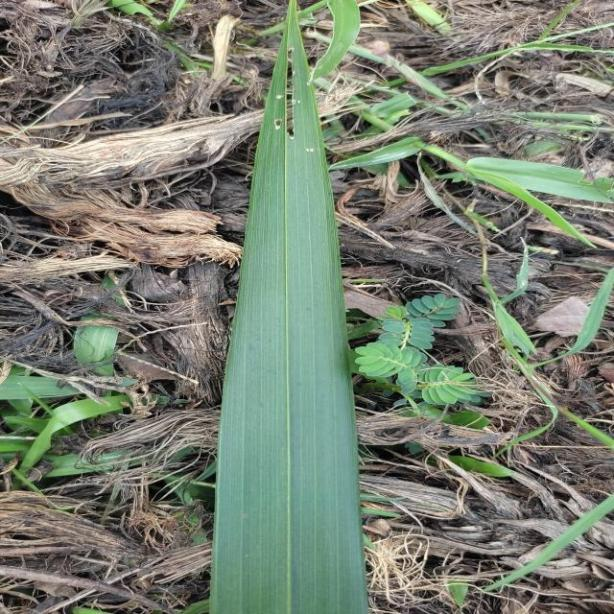Boron: (210, 0, 366, 614)
